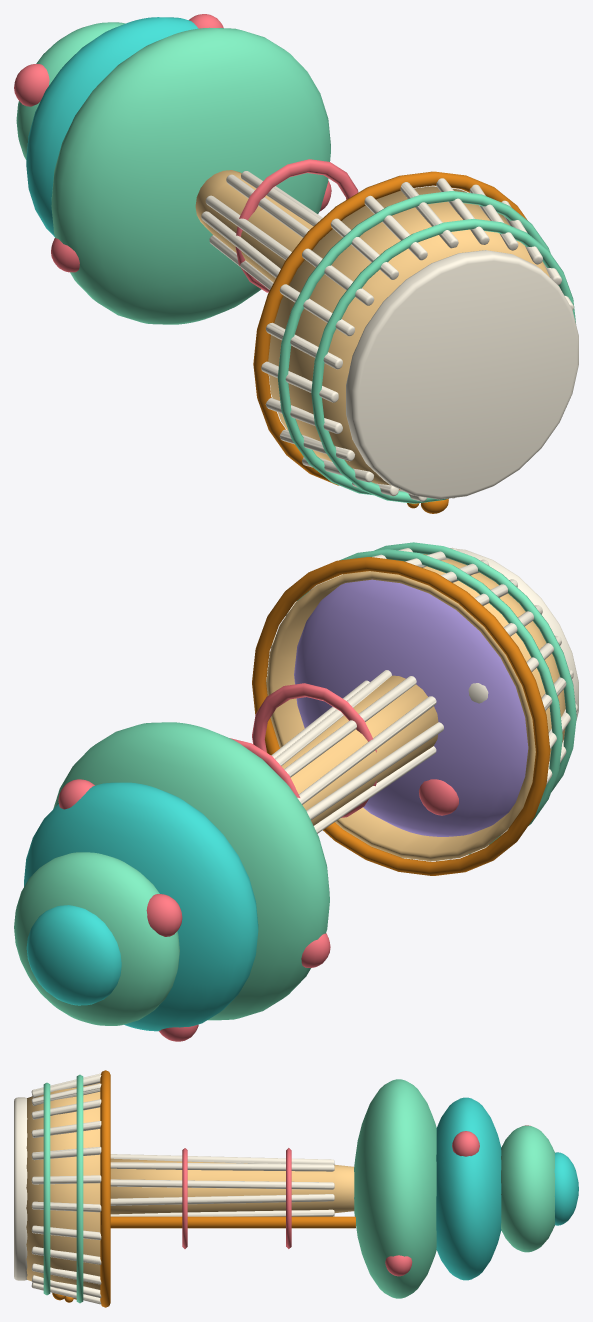
Rendered from GardenSapling_Premium.fbx.
The picture shows the model from 3 angles, top to bottom: view 1: azimuth 30°, elevation 25°; view 2: azimuth 150°, elevation 25°; view 3: azimuth 270°, elevation 25°; orthographic projection. The views are drawn at different scales.
Visible parts, largest first — view 1: GardenSapling; view 2: GardenSapling; view 3: GardenSapling.
Part boxes in pixels (left/top/right/bottom): GardenSapling: left=14, top=14, right=578, bottom=513; GardenSapling: left=14, top=542, right=578, bottom=1041; GardenSapling: left=14, top=1070, right=578, bottom=1307.
Size of the model in its own units: 0.778 by 0.7865 by 1.85.
